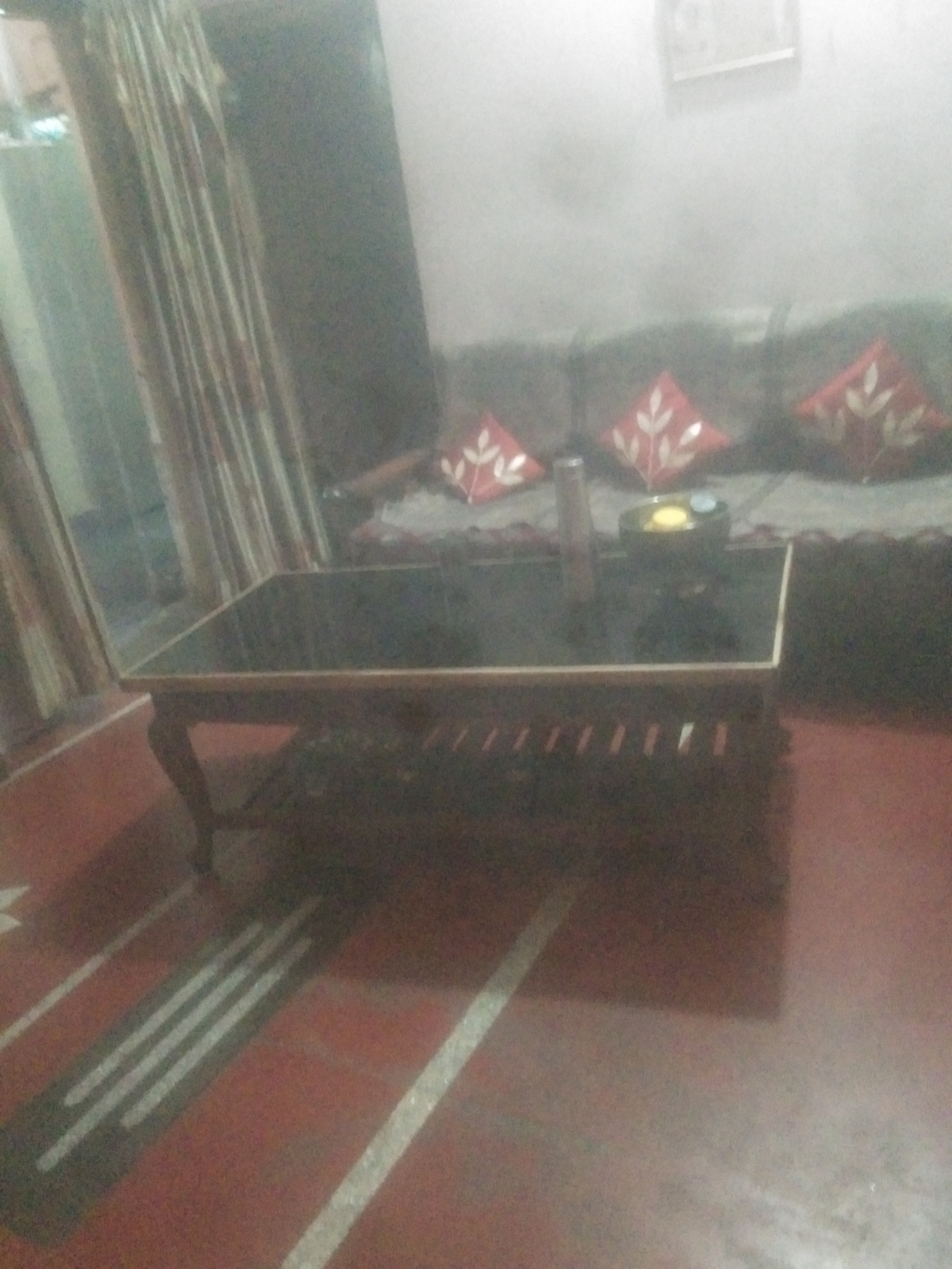sofa: (327, 307, 952, 680)
table: (111, 544, 798, 892)
